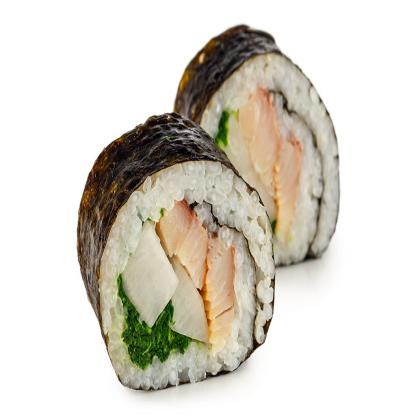futomaki: (65, 113, 287, 415)
